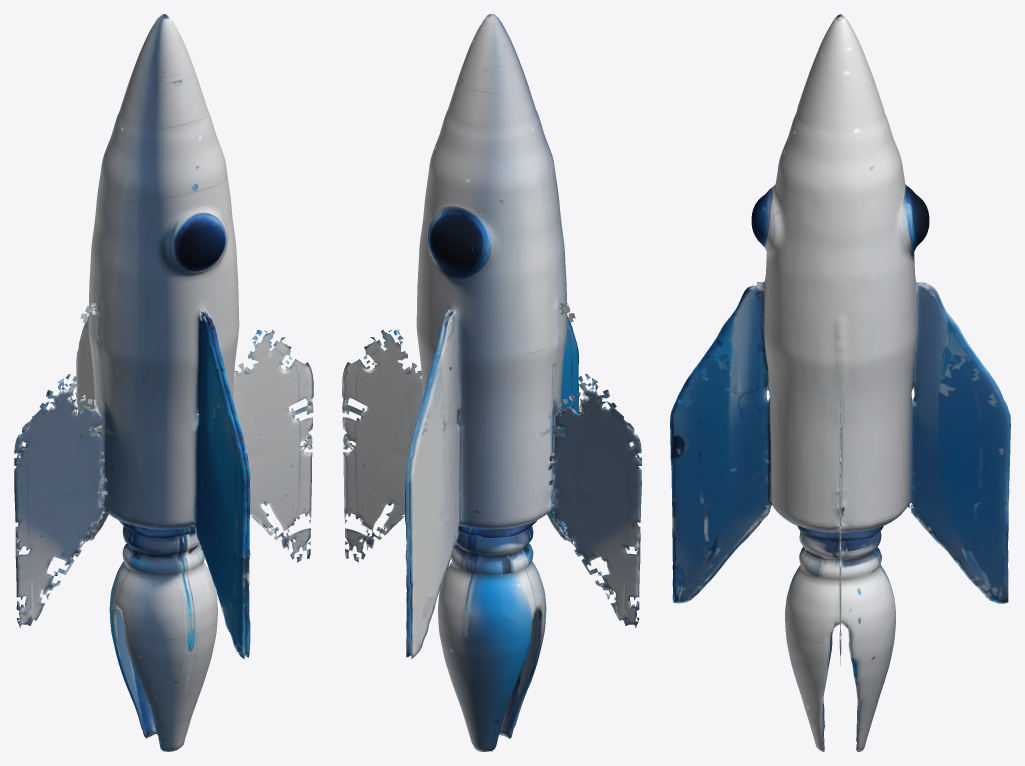
The model's file is rocket_model.glb.
The picture shows the model from 3 angles, left to right: view 1: azimuth 30°, elevation 25°; view 2: azimuth 150°, elevation 25°; view 3: azimuth 270°, elevation 25°; orthographic projection.
Bounding box in the file's own units: 0.8575 × 1.99 × 0.8389.
Materials: 1 (1 with a texture image).
